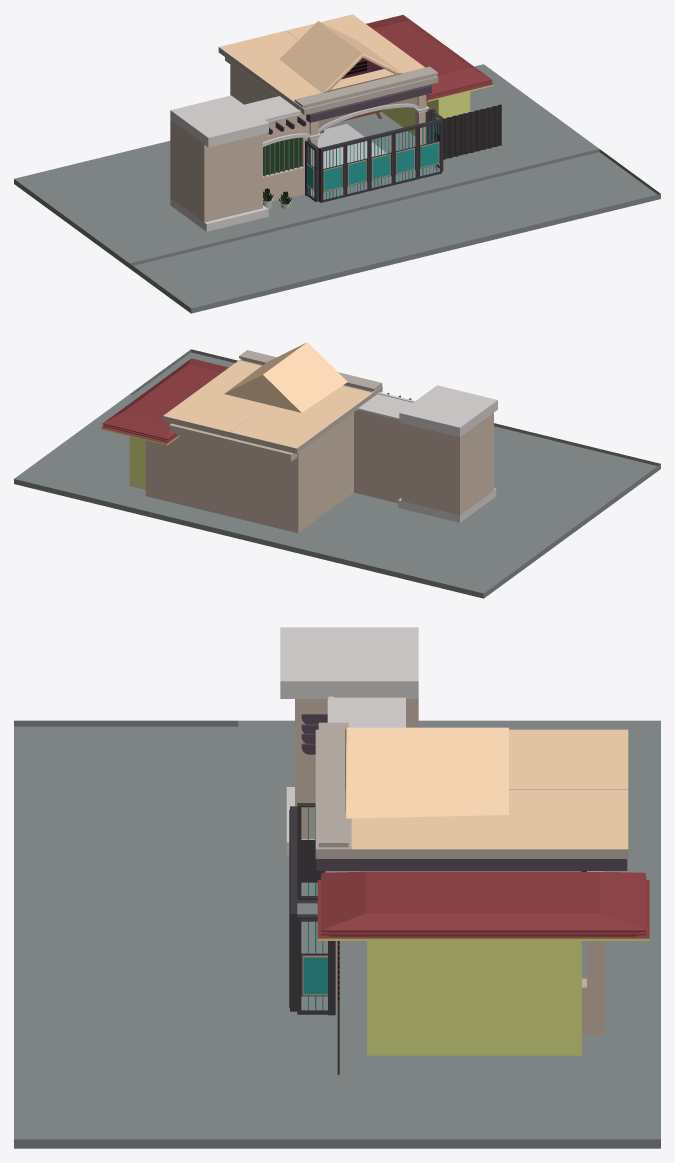
File: front-house.glb
3 views of the same model, one above another, from view 1: azimuth 30°, elevation 25°; view 2: azimuth 150°, elevation 25°; view 3: azimuth 270°, elevation 25° (orthographic). The views are drawn at different scales.
Parts seen in each view (by area): view 1: Ground, House, Middle Gate, Rag, Left Gate, Right Gate; view 2: House, Ground; view 3: Ground, House, Right Gate, Middle Gate, Left Gate.
Boxes of the visible parts, x1,y1,x2,y2 form: Ground: [14, 64, 660, 313]; House: [170, 14, 501, 231]; Middle Gate: [319, 119, 441, 202]; Rag: [306, 124, 386, 168]; Left Gate: [305, 140, 318, 201]; Right Gate: [425, 108, 443, 171]; House: [101, 342, 497, 532]; Ground: [14, 349, 660, 598]; Ground: [14, 720, 660, 1148]; House: [280, 627, 649, 1074]; Right Gate: [297, 914, 335, 1015]; Middle Gate: [289, 806, 297, 1011]; Left Gate: [297, 803, 325, 903].
Bounding box in the file's own units: 179 × 47.15 × 117.
